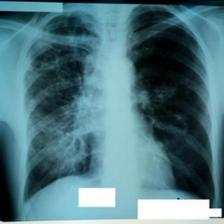tuberculosis: (17, 6, 218, 210)
